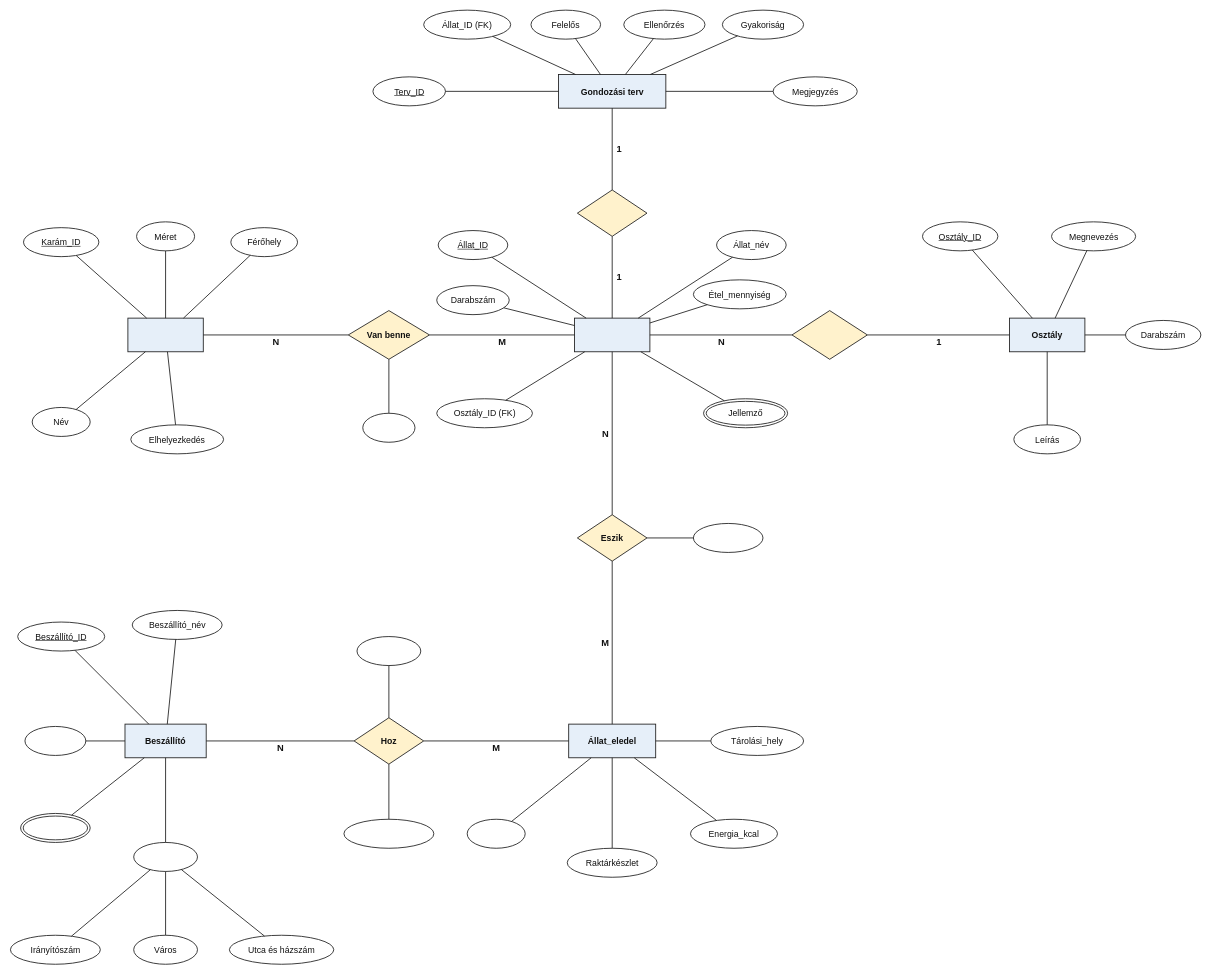
Image size: 1211x975. Some labels were removed from this diagram. Here are the shapes that lost their labels. From the top down, the centre of each, then its label:
(612,213): Terv
(165,334): Karám
(612,334): Állat
(829,334): Tartozik
(388,427): DB
(728,538): Napi_kg
(388,651): Időpont
(55,741): E-mail
(55,828): Telefon
(388,833): Mennyiség_kg
(495,833): Típus
(165,857): Cím
